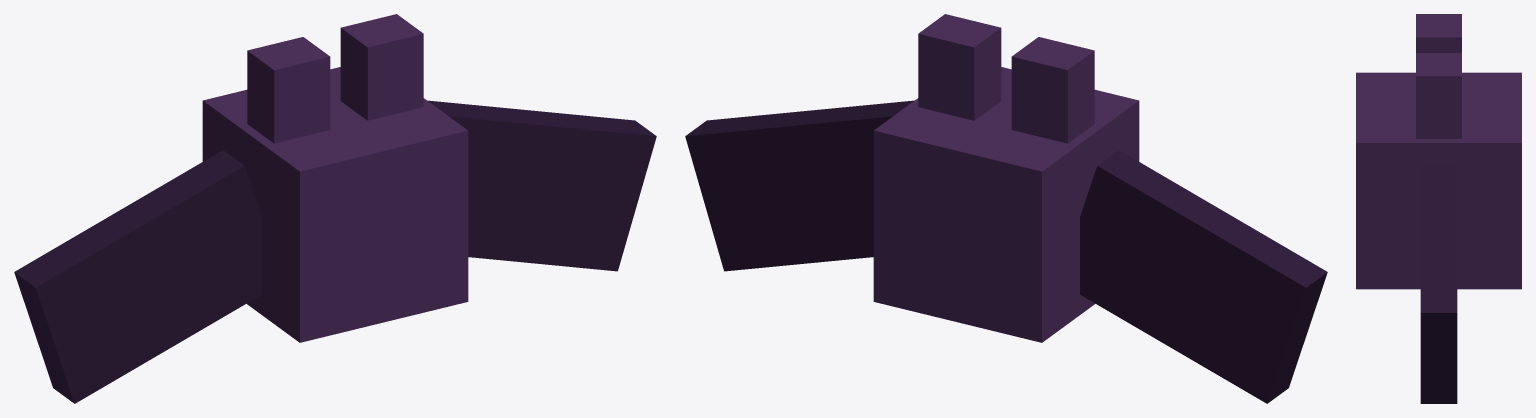
File: bat.gltf
The picture shows the model from 3 angles, left to right: view 1: azimuth 30°, elevation 25°; view 2: azimuth 150°, elevation 25°; view 3: azimuth 270°, elevation 25°; orthographic projection. The views are drawn at different scales.
Parts seen in each view (by area): view 1: body, wing_l, wing_r, ear_r, ear_l; view 2: body, wing_l, wing_r, ear_r, ear_l; view 3: body, wing_r, ear_r, ear_l.
Boxes of the visible parts, box(x1,y1,x2,y2) form: body: box(202, 67, 468, 342); wing_l: box(14, 150, 261, 403); wing_r: box(428, 100, 656, 271); ear_r: box(340, 14, 423, 120); ear_l: box(247, 37, 330, 143); body: box(873, 67, 1139, 342); wing_l: box(1080, 150, 1327, 403); wing_r: box(685, 100, 913, 271); ear_r: box(918, 14, 1001, 120); ear_l: box(1011, 37, 1094, 143); body: box(1356, 72, 1521, 289); wing_r: box(1420, 165, 1457, 403); ear_r: box(1416, 53, 1461, 138); ear_l: box(1416, 14, 1461, 52).
Size of the model in its own units: 0.8301 by 0.3674 by 0.225.
2 materials, 2 textured.
